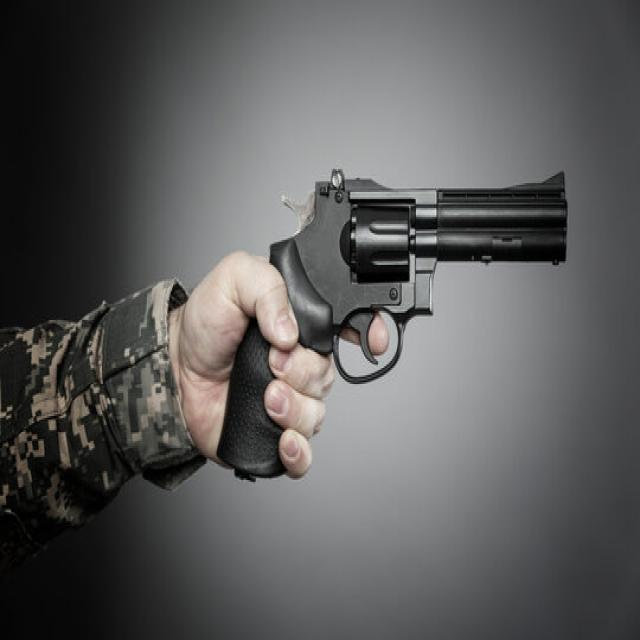HandGun: (268, 169, 568, 386)
